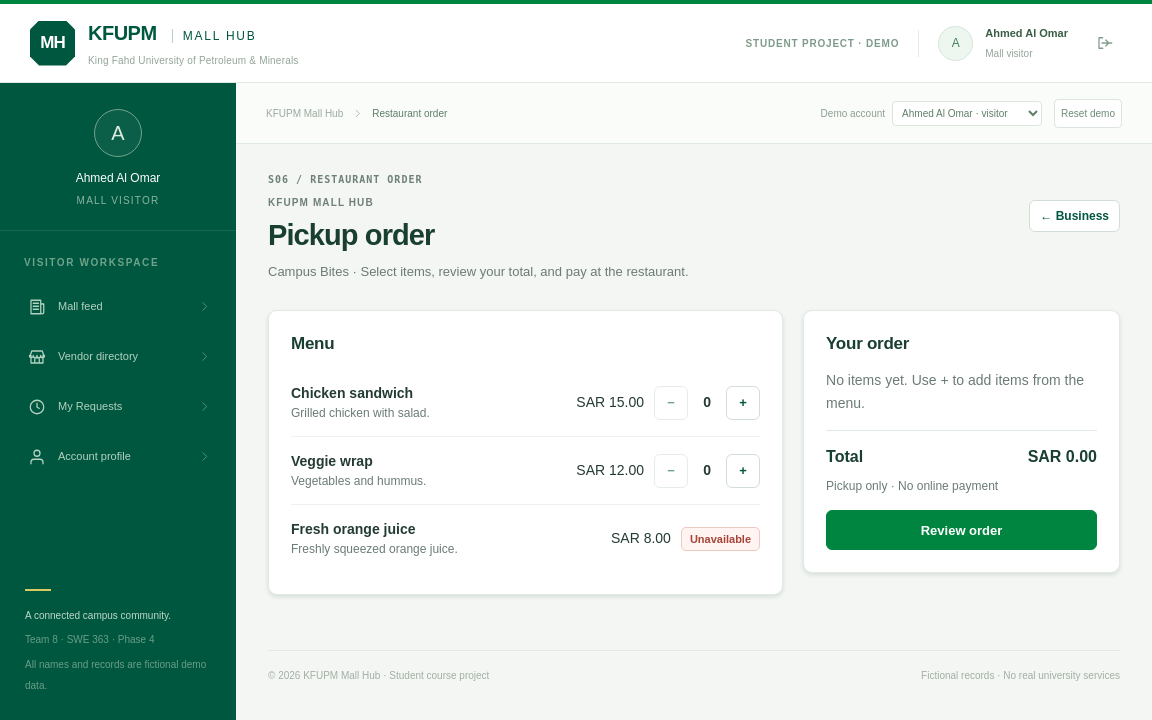
it: combined app workflows › carries a restaurant order through vendor progress and back to the visitor
Later steps or results of the test are not shown.
Click the button named "Add one Chicken sandwich" at (743, 403), box [726,386,760,420]
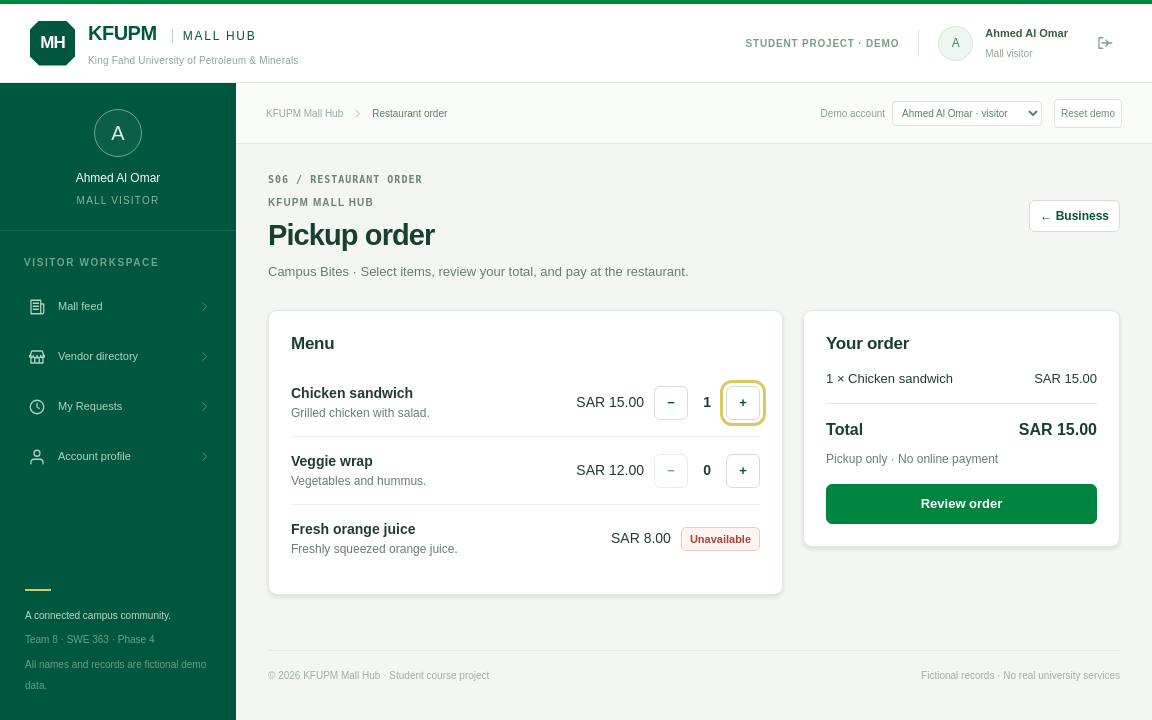
Click the button "Review order" at (962, 504), box [826,484,1097,524]
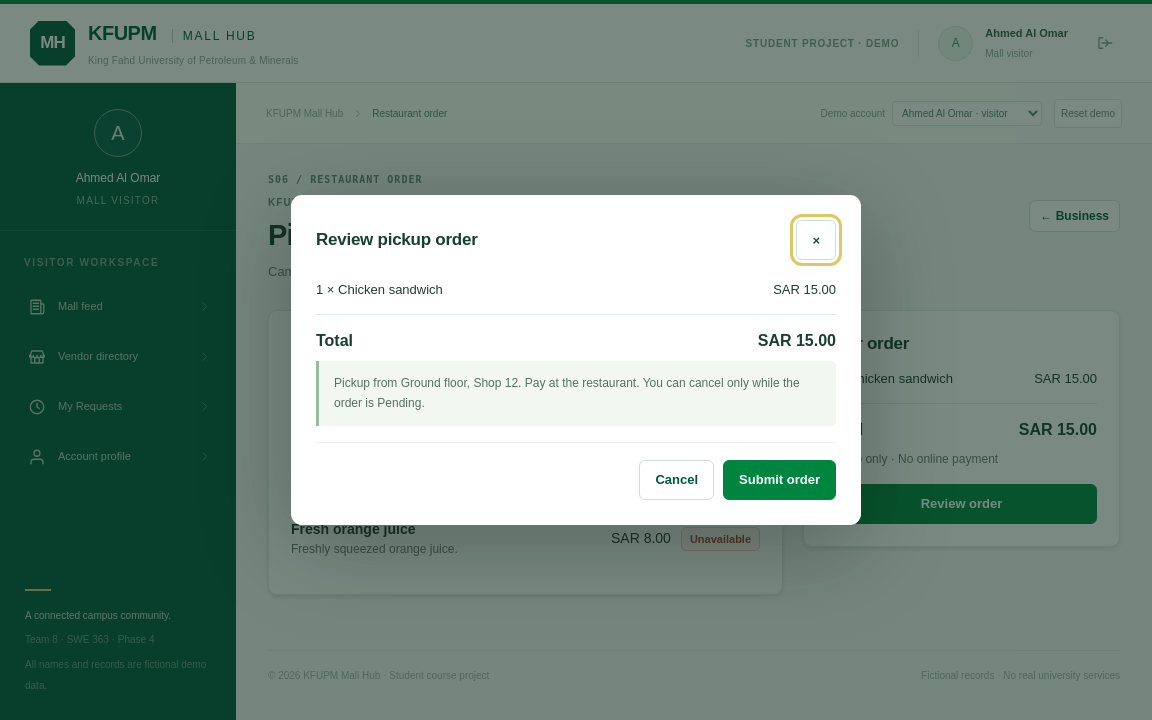
Click the button "Submit order" at (780, 480), box [723,460,836,500]
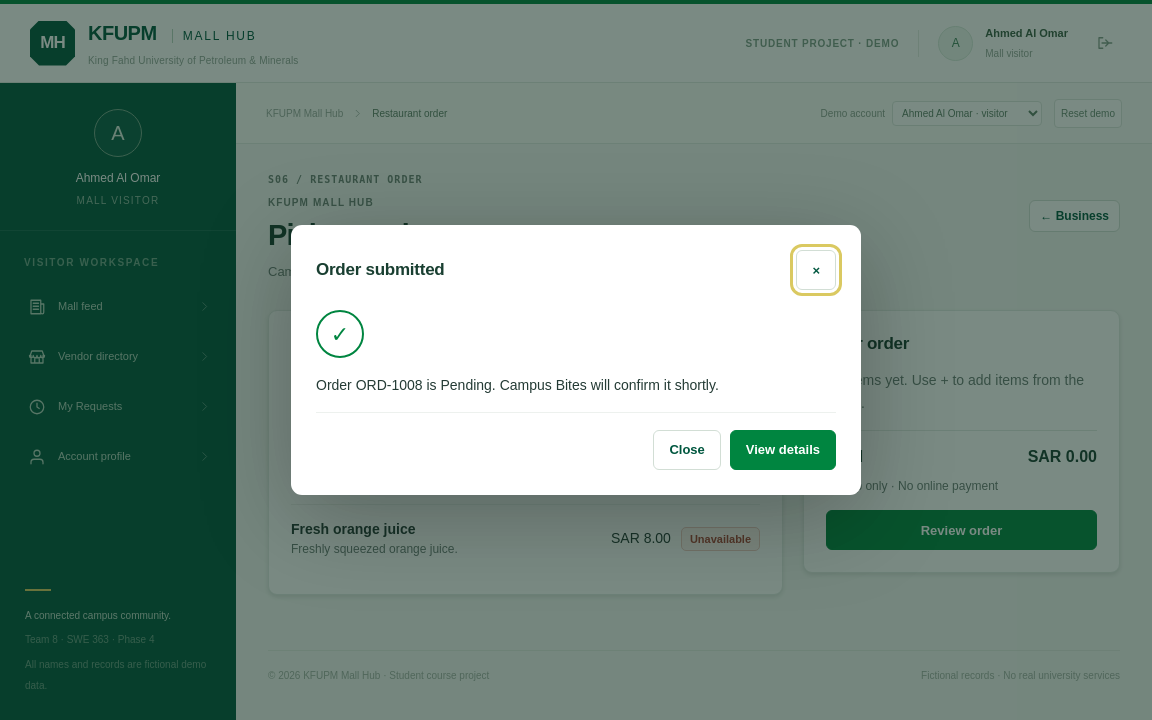
Expected: the heading "Order submitted" is shown, [316,259,444,282]
